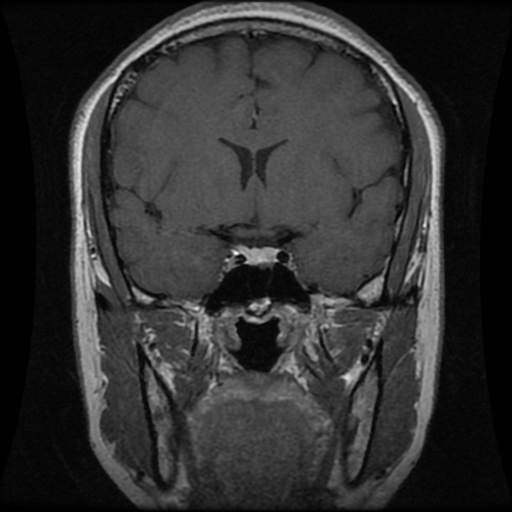pituitary: (230, 243, 283, 268)
